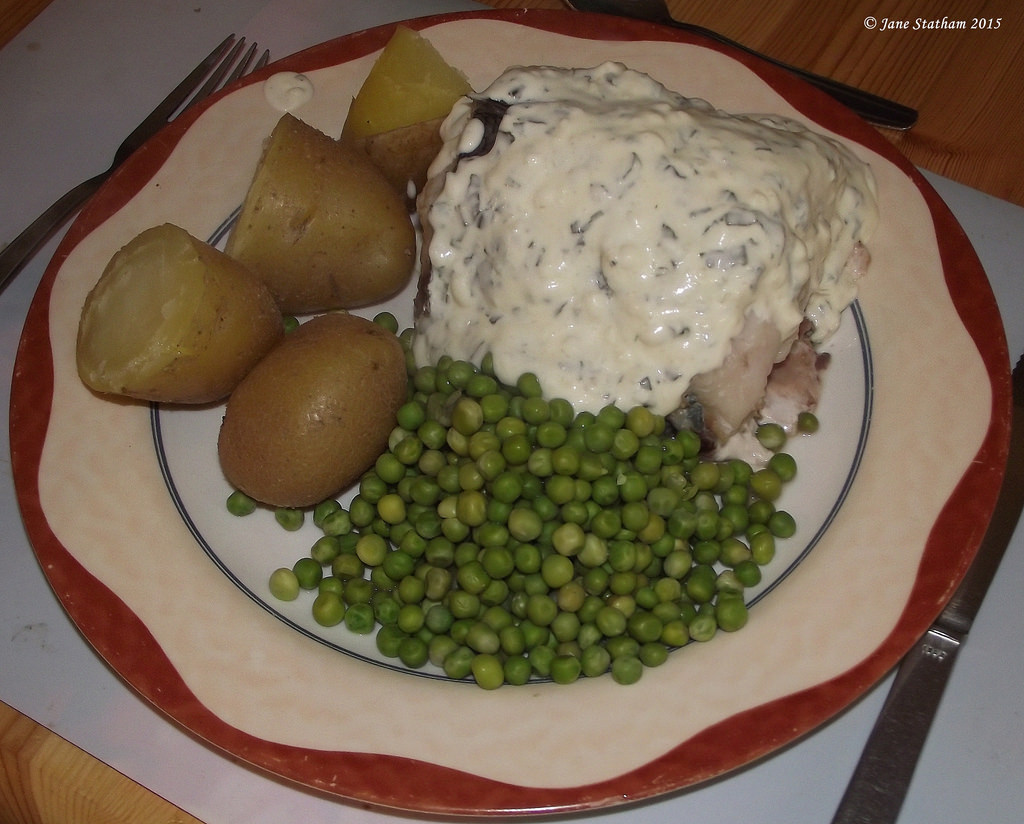boiled peas: (411, 428, 726, 662)
boiled potatoes: (86, 113, 413, 511)
